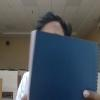notebook: (27, 29, 98, 99)
